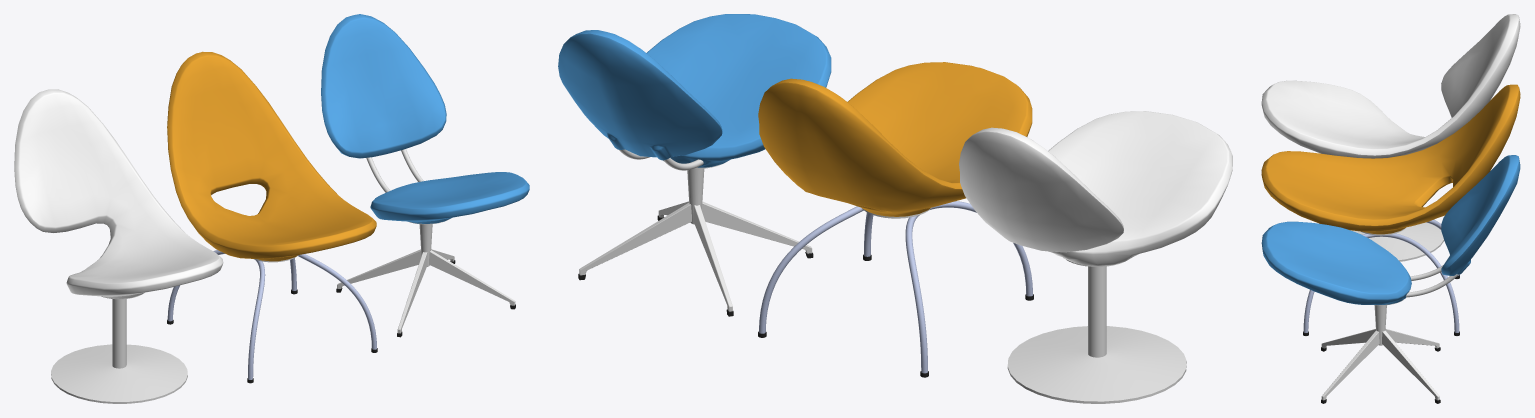
File: free_-_ai_chair_001.glb
3 views of the same model, side by side, from view 1: azimuth 30°, elevation 25°; view 2: azimuth 150°, elevation 25°; view 3: azimuth 270°, elevation 25° (orthographic). The views are drawn at different scales.
Visible parts, largest first — view 1: Cube.001, Cube, Cube.002, Plane.001, Cube.003, BezierCurve.001, Plane.002, Plane.005; view 2: Cube, Cube.001, Cube.002, Plane.001, Cube.003, BezierCurve.001, Plane.002, Plane.004; view 3: Cube.001, Cube, Cube.002, Cube.003, Plane.001, BezierCurve.001, Plane.005, Plane.004.
Part boxes in pixels (box(x1,y1,x2,y2)): Cube.001: box(167, 51, 376, 261); Cube: box(14, 89, 223, 298); Cube.002: box(321, 14, 529, 223); Plane.001: box(51, 344, 187, 403); Cube.003: box(337, 249, 515, 333); BezierCurve.001: box(167, 250, 376, 379); Plane.002: box(112, 299, 126, 368); Plane.005: box(366, 149, 423, 192); Cube: box(959, 111, 1232, 265); Cube.001: box(758, 62, 1032, 216); Cube.002: box(558, 14, 831, 167); Plane.001: box(1007, 326, 1186, 403); Cube.003: box(579, 201, 812, 311); BezierCurve.001: box(759, 201, 1032, 373); Plane.002: box(1088, 266, 1106, 357); Plane.004: box(663, 160, 723, 224); Cube.001: box(1261, 84, 1520, 234); Cube: box(1261, 14, 1520, 158); Cube.002: box(1261, 155, 1520, 305); Cube.003: box(1321, 329, 1439, 400); Plane.001: box(1351, 219, 1444, 261); BezierCurve.001: box(1303, 219, 1459, 332); Plane.005: box(1406, 265, 1458, 297); Plane.004: box(1374, 298, 1405, 345).
Size of what is drawn, in the model's own units: 1.45 by 0.7217 by 0.7768.
